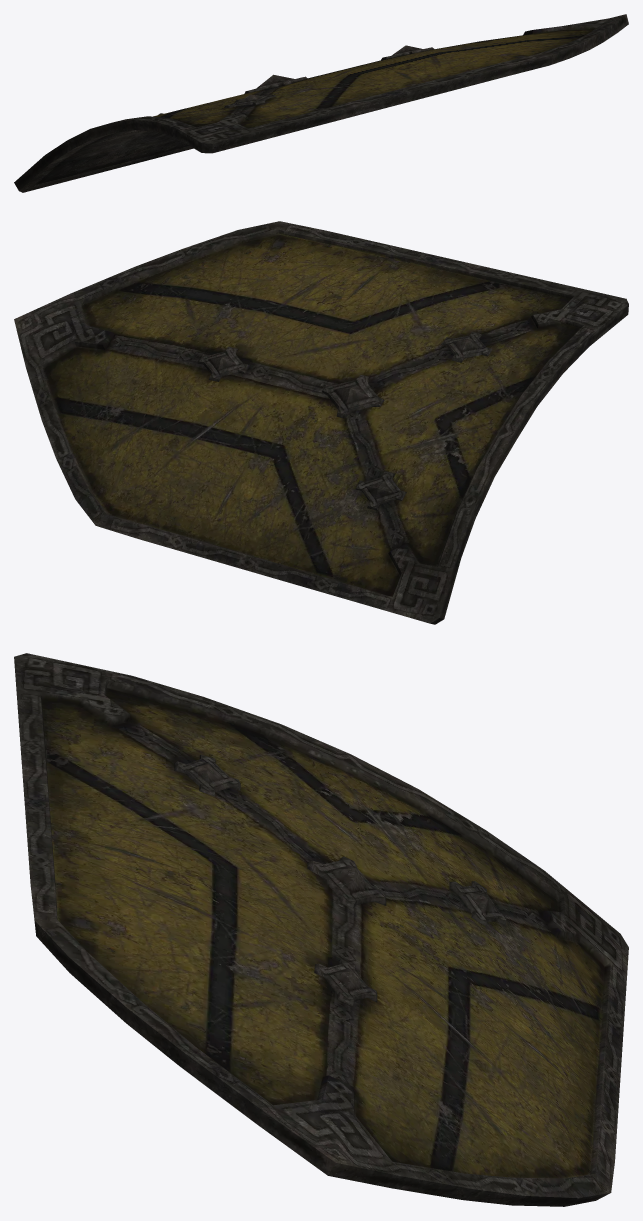
File: ITSH_SHIELD_A_WASP.glb
3 renders of one model, top to bottom at view 1: azimuth 30°, elevation 25°; view 2: azimuth 150°, elevation 25°; view 3: azimuth 270°, elevation 25°, orthographic. The views are drawn at different scales.
Parts seen in each view (by area): view 1: ITSH_SHIELD_A_WASP; view 2: ITSH_SHIELD_A_WASP; view 3: ITSH_SHIELD_A_WASP.
Boxes of the visible parts, x1,y1,x2,y2 form: ITSH_SHIELD_A_WASP: (14, 14, 628, 192); ITSH_SHIELD_A_WASP: (14, 221, 628, 624); ITSH_SHIELD_A_WASP: (14, 653, 628, 1206).
Size of the model in its own units: 0.8306 by 0.2879 by 0.5409.
Materials: 1 (1 with a texture image).
